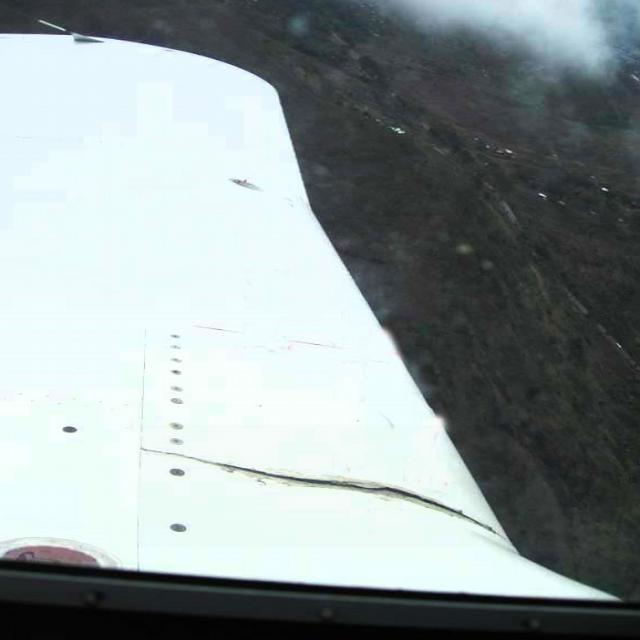crack: (139, 426, 528, 548)
